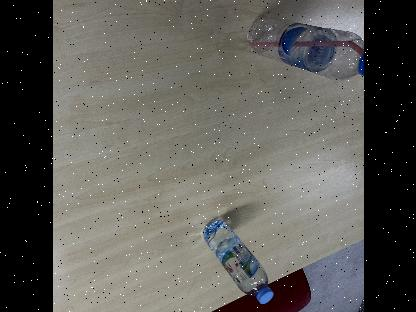Plastic Bottle: (246, 16, 364, 82), (200, 218, 274, 304)
